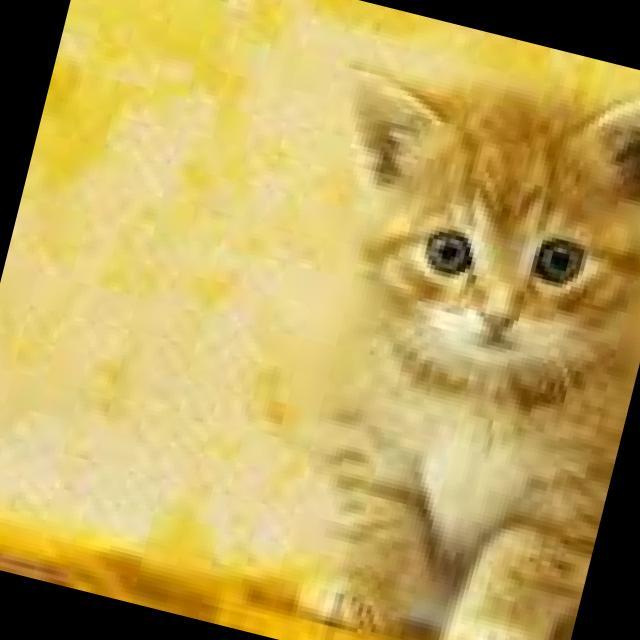cat: (211, 4, 640, 640)
